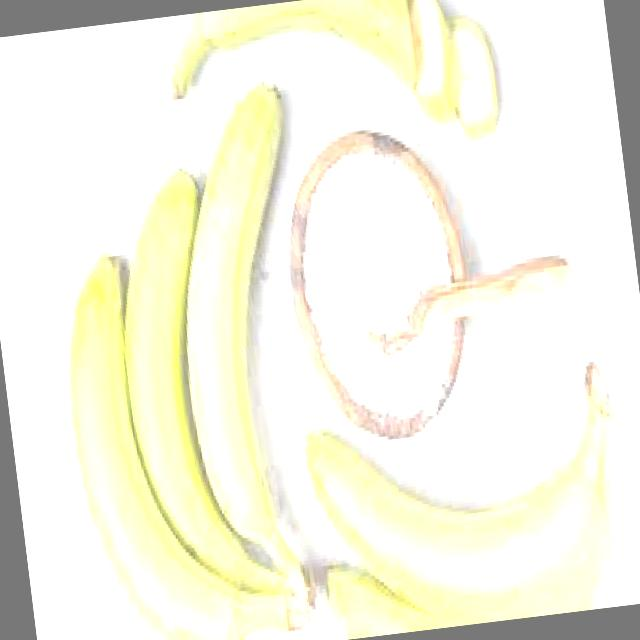Banana: (32, 76, 350, 640), (297, 357, 637, 640), (159, 0, 420, 121)
